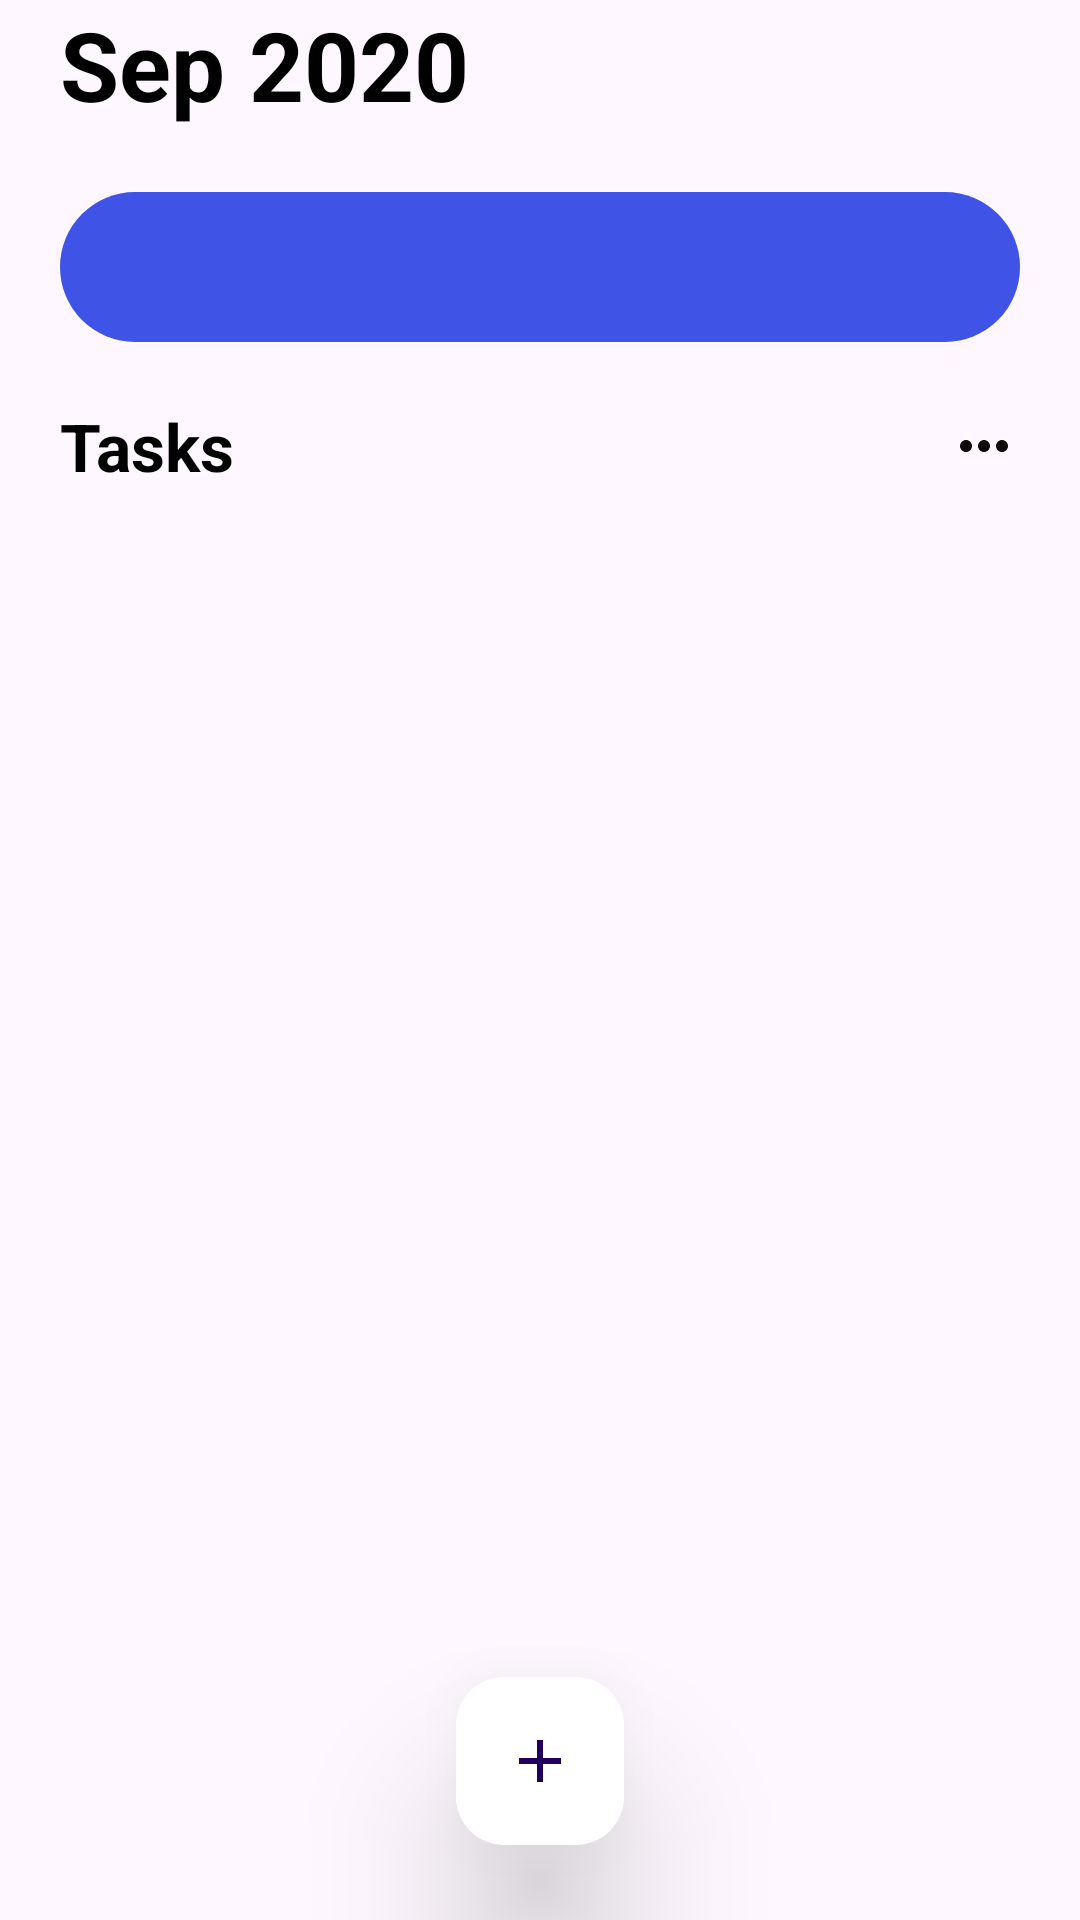

Icons on this 1080w x 1920h Android screen, each with its box as (x1, y1, x2, y2):
Adding New Task Button: (456, 1677, 624, 1845)
more horizontal: (960, 440, 1008, 452)
